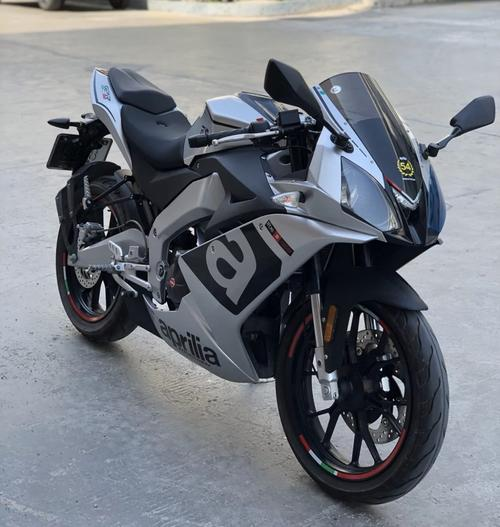摩托车: (30, 42, 500, 517)
